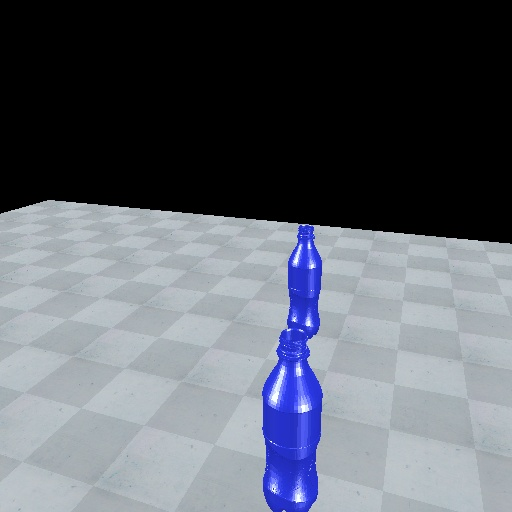bottle: (258, 326, 327, 511), (284, 222, 324, 342)
